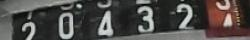digits: (176, 2, 194, 30), (136, 5, 154, 33), (96, 10, 114, 37), (58, 12, 74, 39), (20, 20, 35, 40), (215, 0, 232, 11)
